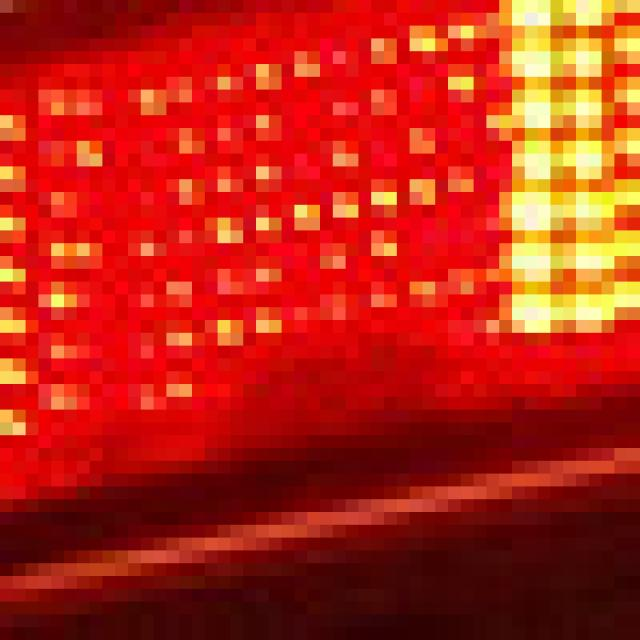no_fire: (10, 57, 640, 453)
